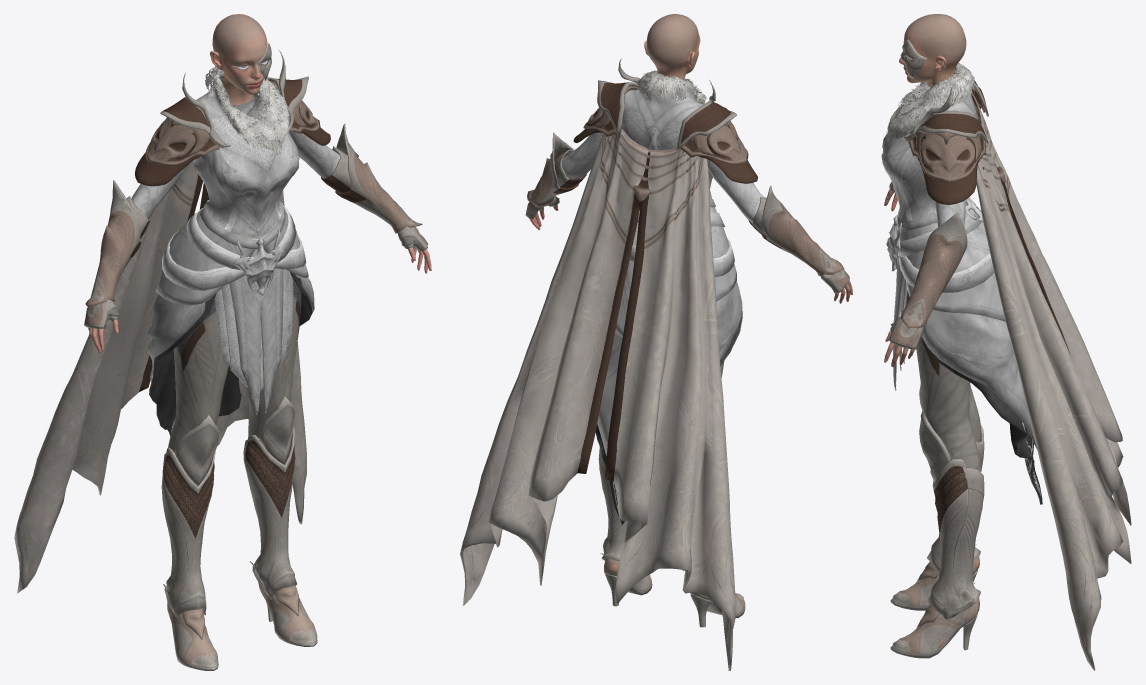
3 views of the same model, side by side, from view 1: azimuth 30°, elevation 25°; view 2: azimuth 150°, elevation 25°; view 3: azimuth 270°, elevation 25° (orthographic). The views are drawn at different scales.
Parts seen in each view (by area): view 1: GF_0038_T05_Body, GF_0038_T05_Cape, GF_0038_T05_Boots, GF_0038_T05_Glove, GF_0038_T05_Pants, GF_0038_T05_Shoulder, GF_BaseHead; view 2: GF_0038_T05_Cape, GF_0038_T05_Body, GF_0038_T05_Shoulder, GF_0038_T05_Glove, GF_BaseHead, GF_0038_T05_Boots; view 3: GF_0038_T05_Cape, GF_0038_T05_Body, GF_0038_T05_Boots, GF_0038_T05_Shoulder, GF_0038_T05_Pants, GF_0038_T05_Glove, GF_BaseHead, GF_0038_T05_Helmet.
Part boxes in pixels (x1,y1,x2,y2): GF_0038_T05_Body: (88,66,431,436); GF_0038_T05_Cape: (14,162,306,593); GF_0038_T05_Boots: (161,396,317,670); GF_0038_T05_Glove: (84,123,428,329); GF_0038_T05_Pants: (168,278,301,647); GF_0038_T05_Shoulder: (135,49,330,186); GF_BaseHead: (210,14,271,104); GF_0038_T05_Cape: (460,129,735,670); GF_0038_T05_Body: (530,70,852,524); GF_0038_T05_Shoulder: (573,58,757,183); GF_0038_T05_Glove: (525,132,849,293); GF_BaseHead: (644,14,700,79); GF_0038_T05_Boots: (598,446,745,627); GF_0038_T05_Cape: (971,92,1131,670); GF_0038_T05_Body: (881,63,1042,504); GF_0038_T05_Boots: (890,383,984,658); GF_0038_T05_Shoulder: (904,79,988,204); GF_0038_T05_Pants: (916,339,980,647); GF_0038_T05_Glove: (889,181,967,349); GF_BaseHead: (899,14,966,86); GF_0038_T05_Helmet: (900,39,926,78).
Bounding box in the file's own units: 1.03 × 1.82 × 0.6766.
10 materials, 9 textured.
